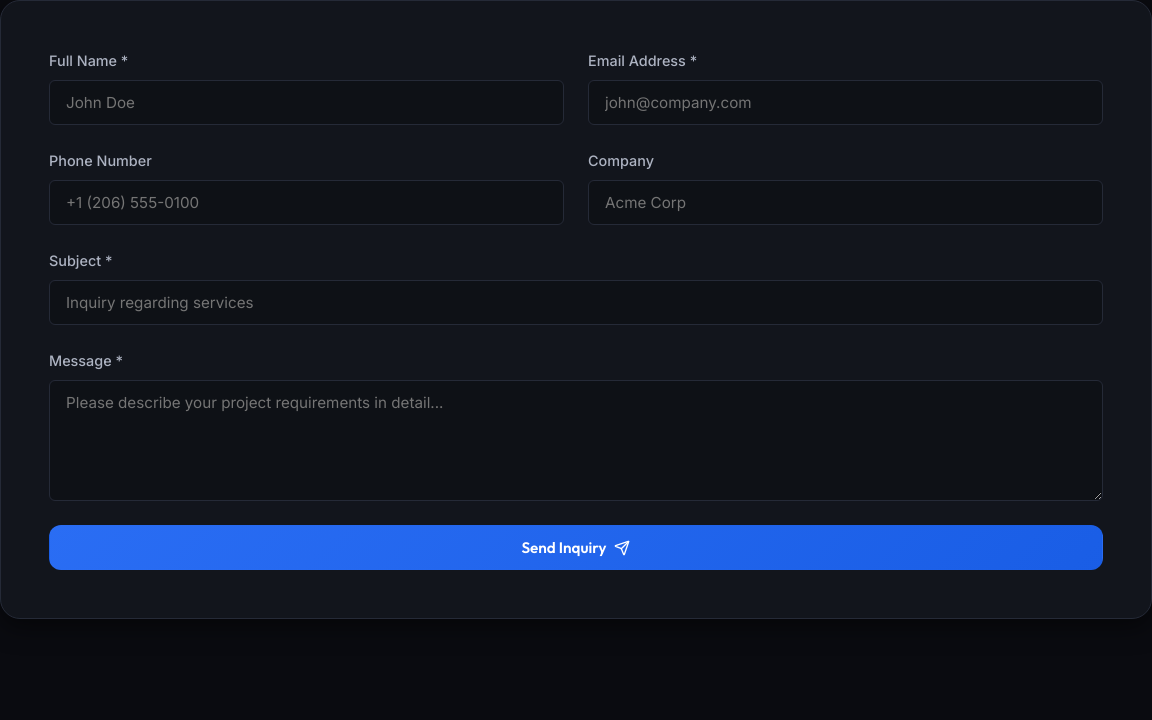
Test case: ContactForm Component › submits correctly and displays success message when validation passes
Type "Naseem" into the field labelled "Full Name *" at [306, 102], box [49, 80, 564, 125]
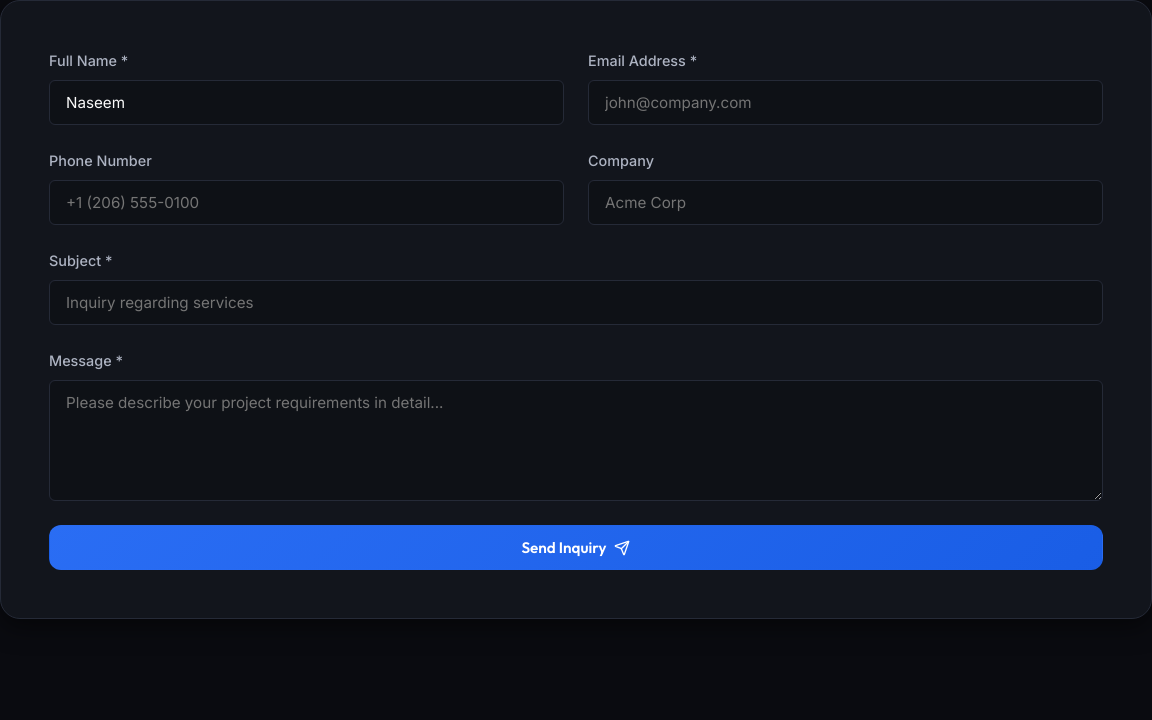
Type "naseem@example.com" into the field labelled "Email Address *" at [846, 102], box [588, 80, 1103, 125]
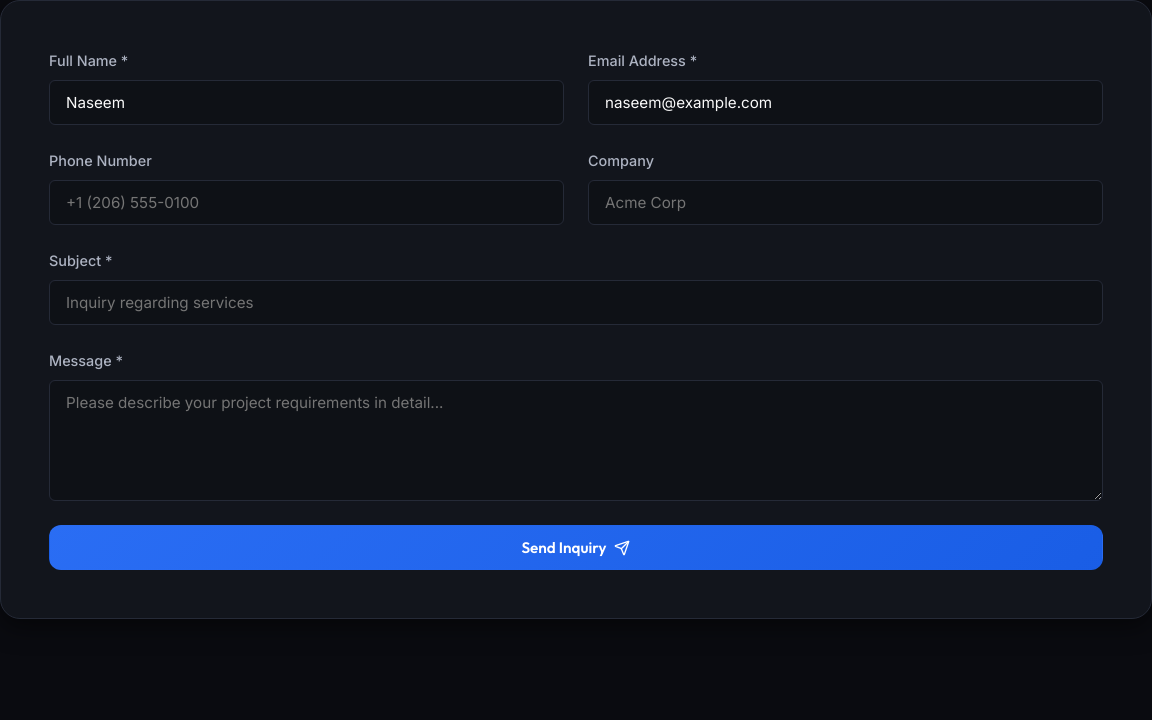
Type "Testing subject" into the field labelled "Subject *" at [576, 303], box [49, 280, 1103, 325]
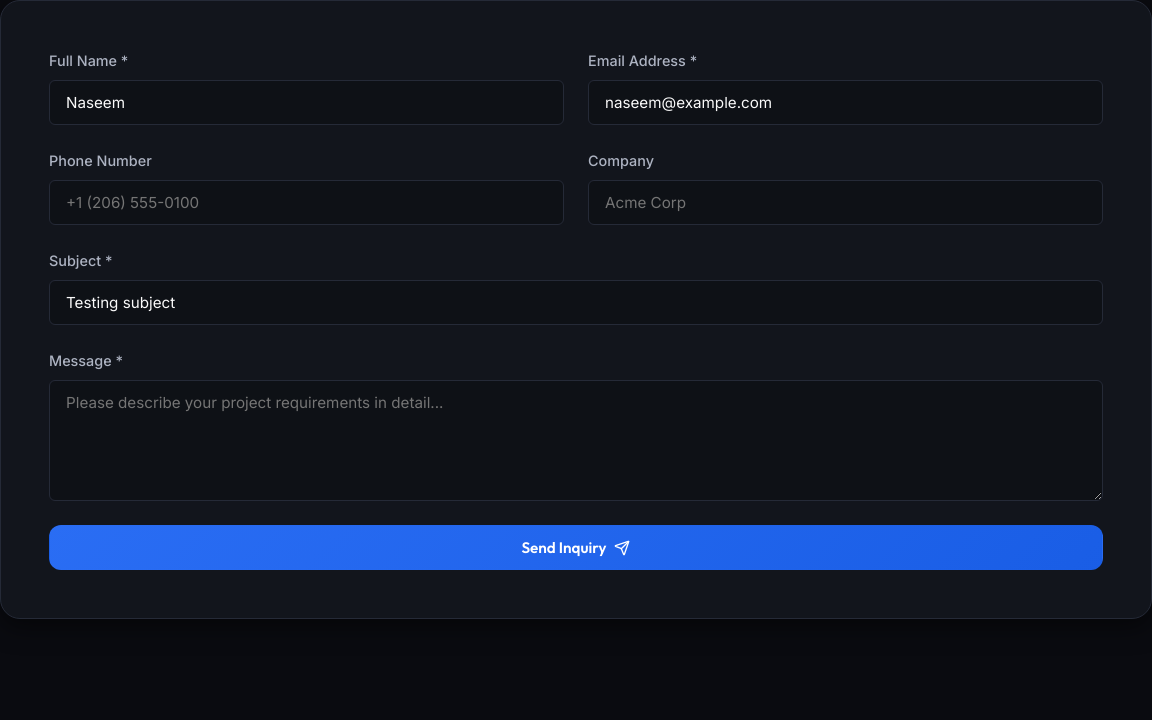
Type "Testing contact form submissions for SWA." into the text box labelled "Message *" at [576, 441], box [49, 380, 1103, 501]
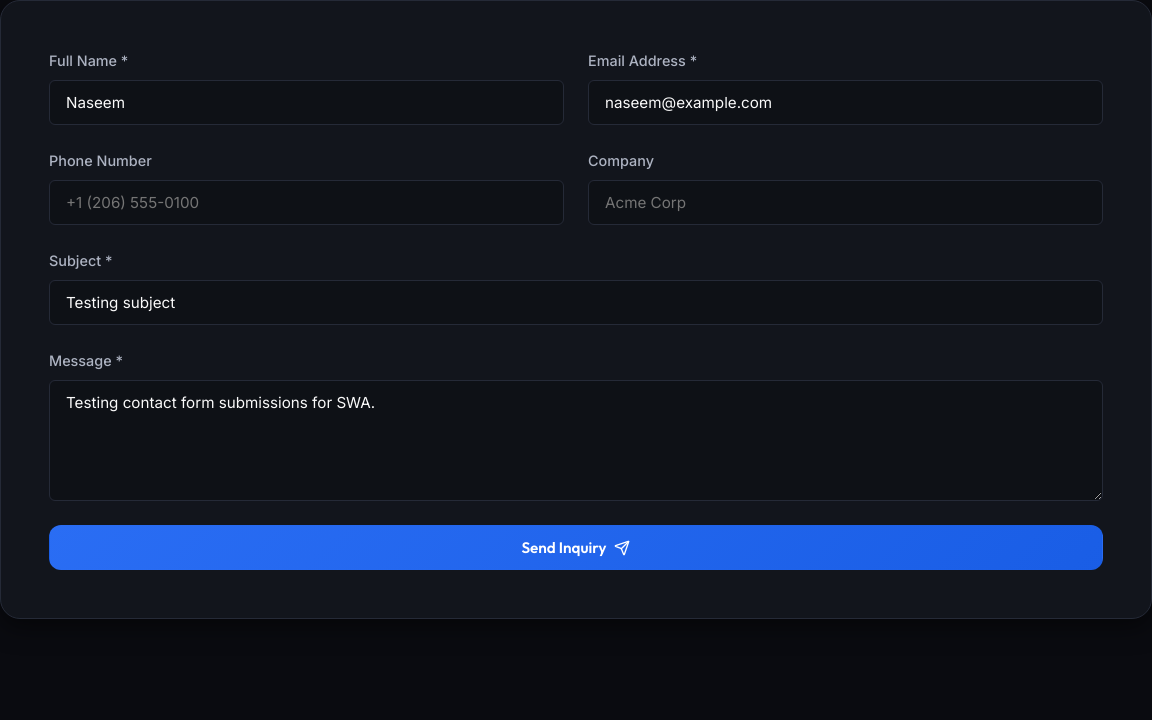
Click the button "Send Inquiry" at [576, 548], box [49, 525, 1103, 570]
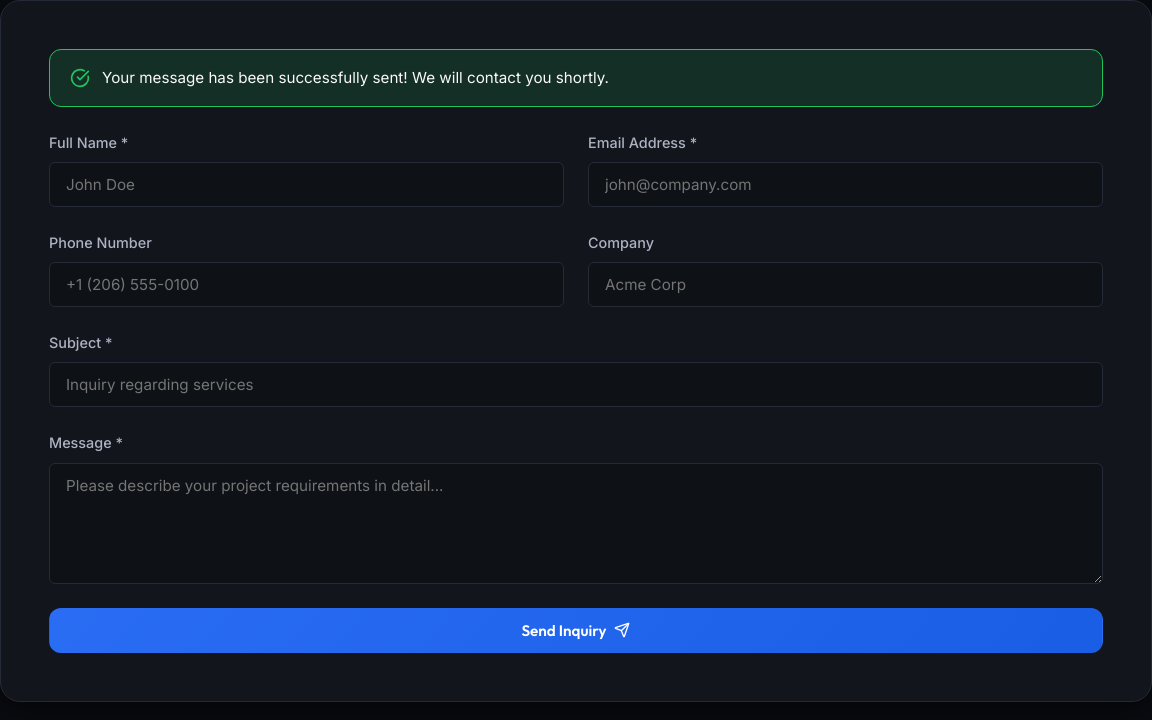
Check: the text "Your message has been successfully sent" is shown, box [102, 68, 609, 87]
Check: the field labelled "Full Name *" is empty, box [49, 162, 564, 207]
Check: the field labelled "Email Address *" is empty, box [588, 162, 1103, 207]
